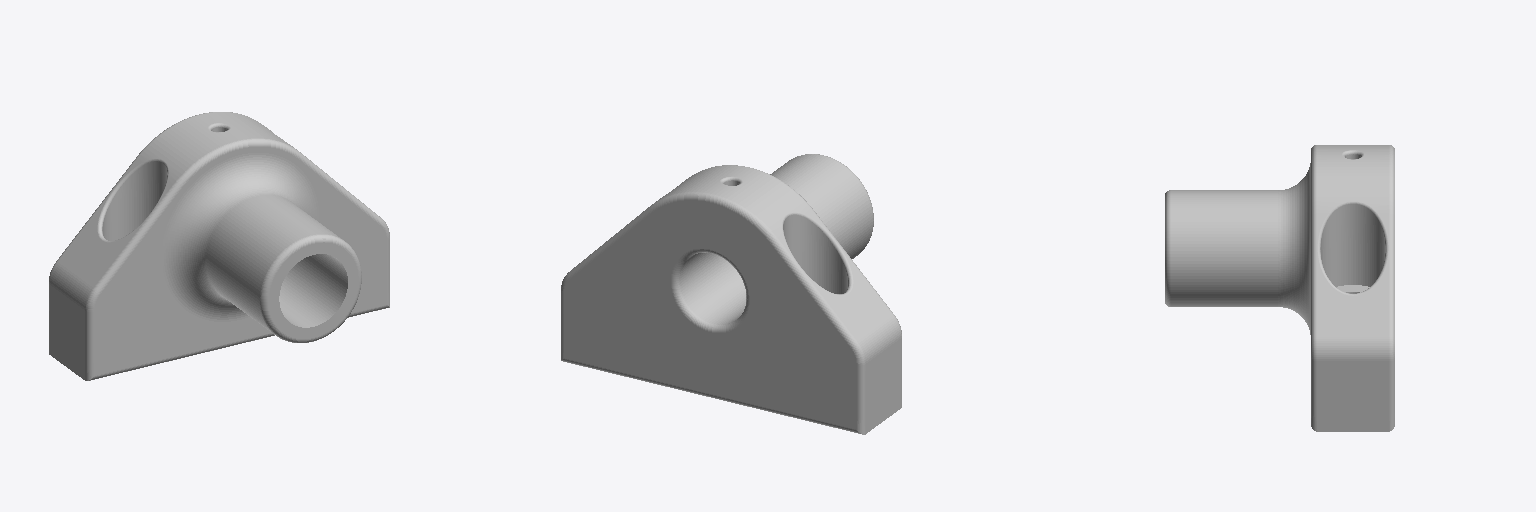
File: JKK60_WithCover_RailAdapter_12mm v9.obj
3 views of the same model, side by side, from view 1: azimuth 30°, elevation 25°; view 2: azimuth 150°, elevation 25°; view 3: azimuth 270°, elevation 25° (orthographic).
Visible parts, largest first — view 1: Körper1; view 2: Körper1; view 3: Körper1.
Part boxes in pixels (x1,y1,x2,y2): Körper1: (49,112,389,380); Körper1: (561,154,901,434); Körper1: (1165,145,1394,431).
Size of the model in its own units: 54 by 34.5 by 35.5.